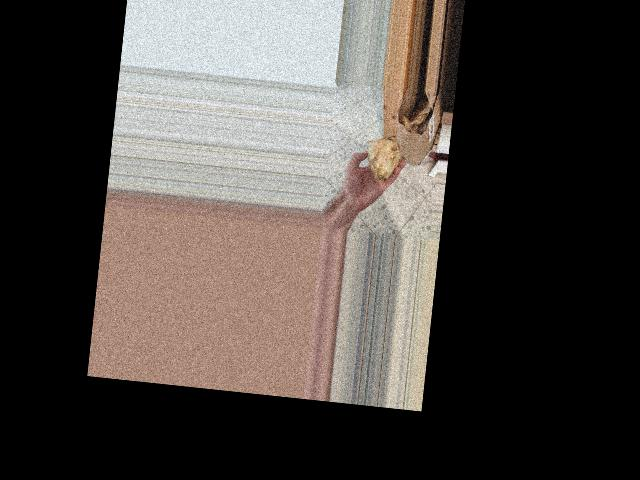onion: (364, 132, 406, 182)
